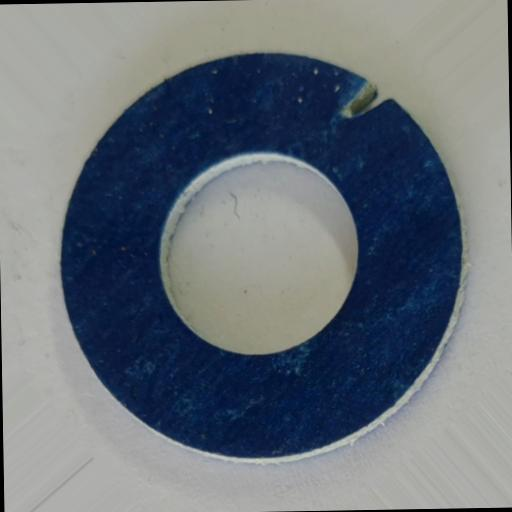defect: (340, 79, 395, 120)
